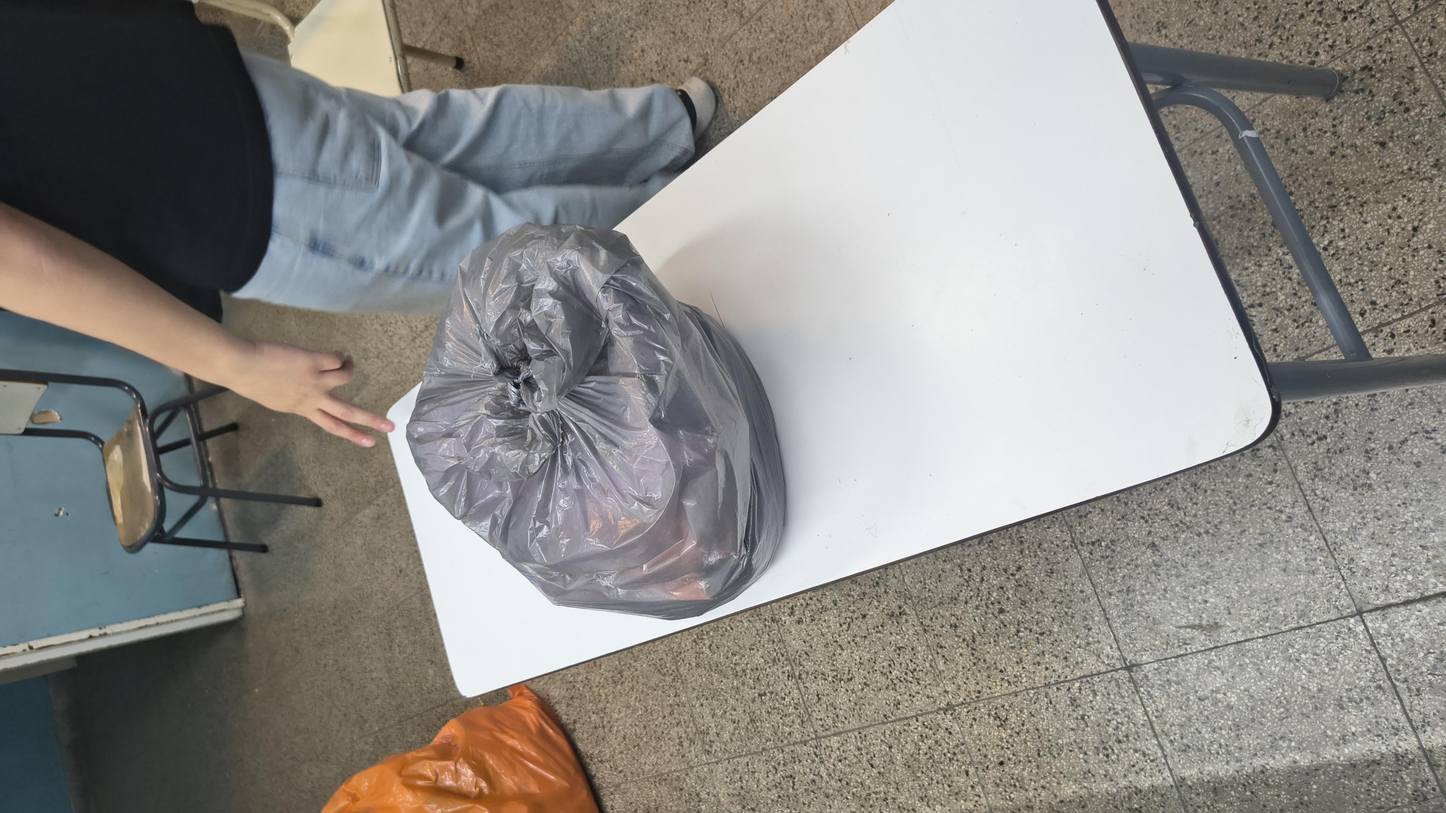Garbage: (270, 210, 1155, 462)
